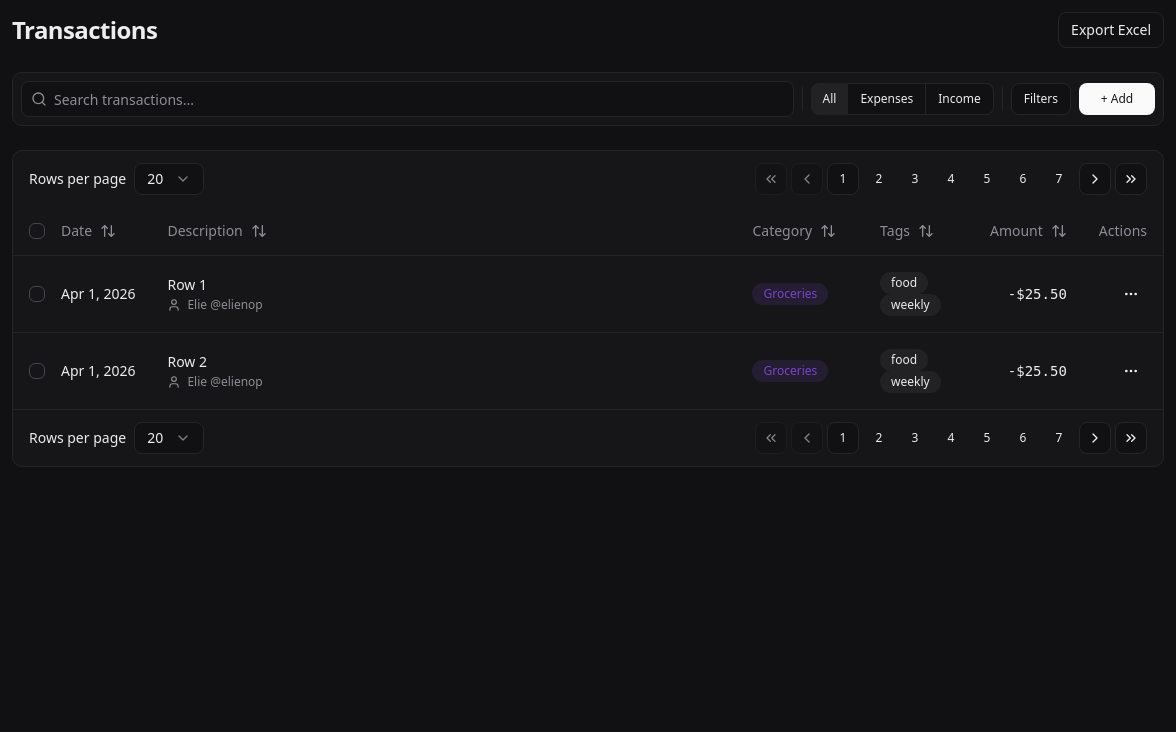
it: Transactions page › selection state machine › clicking "Select all X matching" switches to all-matching scope and locks row checkboxes
# Escalate to all-matching via header checkbox + banner.
Click the checkbox named "select row 1". click: (37, 294)
box: [29,286,45,302]
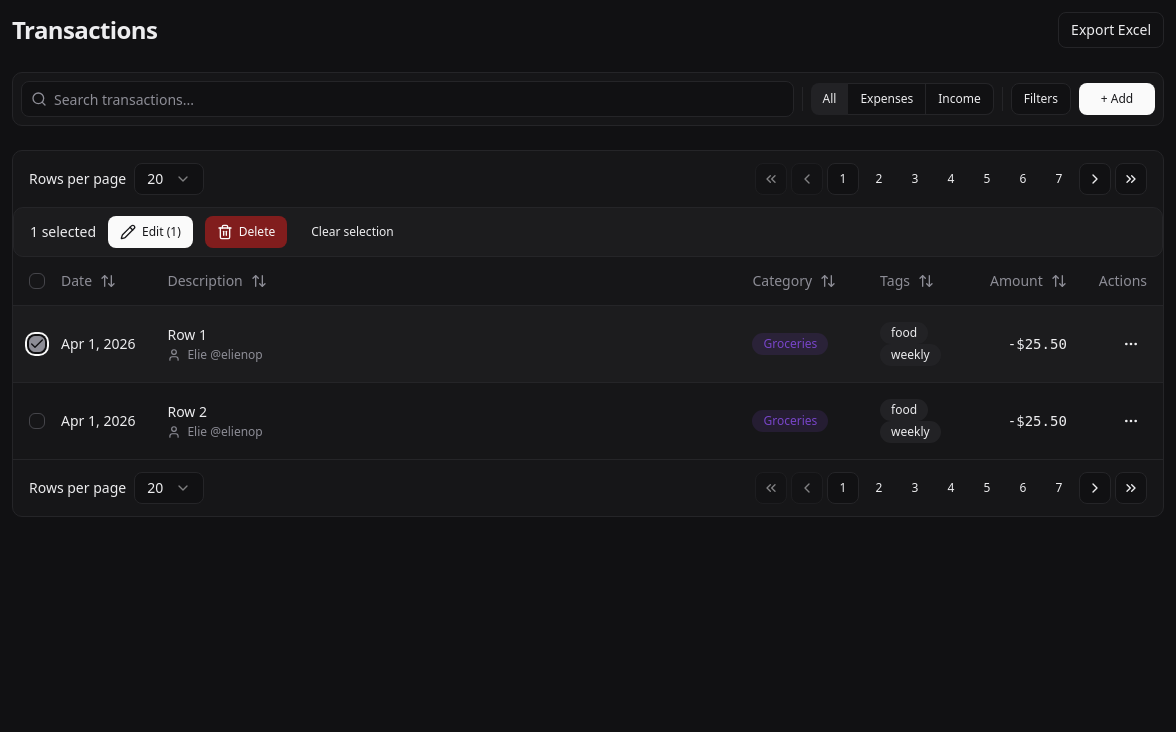
Click the checkbox named "select row 2". click: (37, 420)
box: [29,412,45,428]
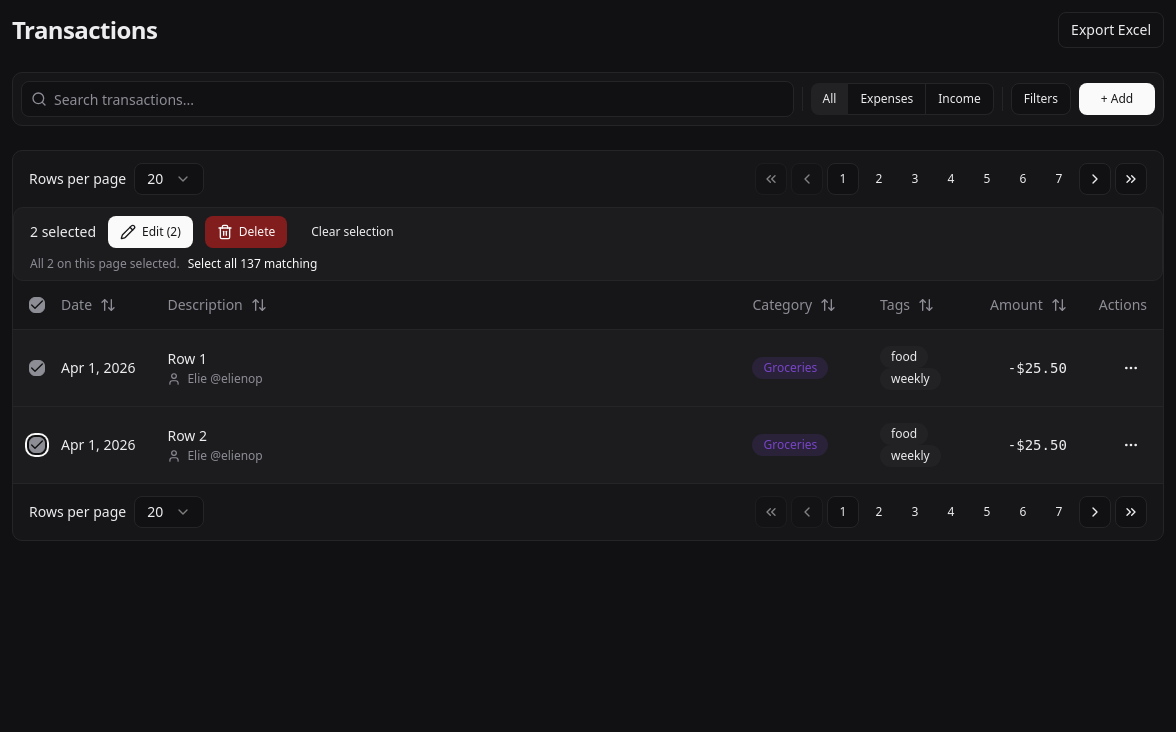
Click the button "Select all 137 matching". click: (252, 264)
box: [188,256,317,272]
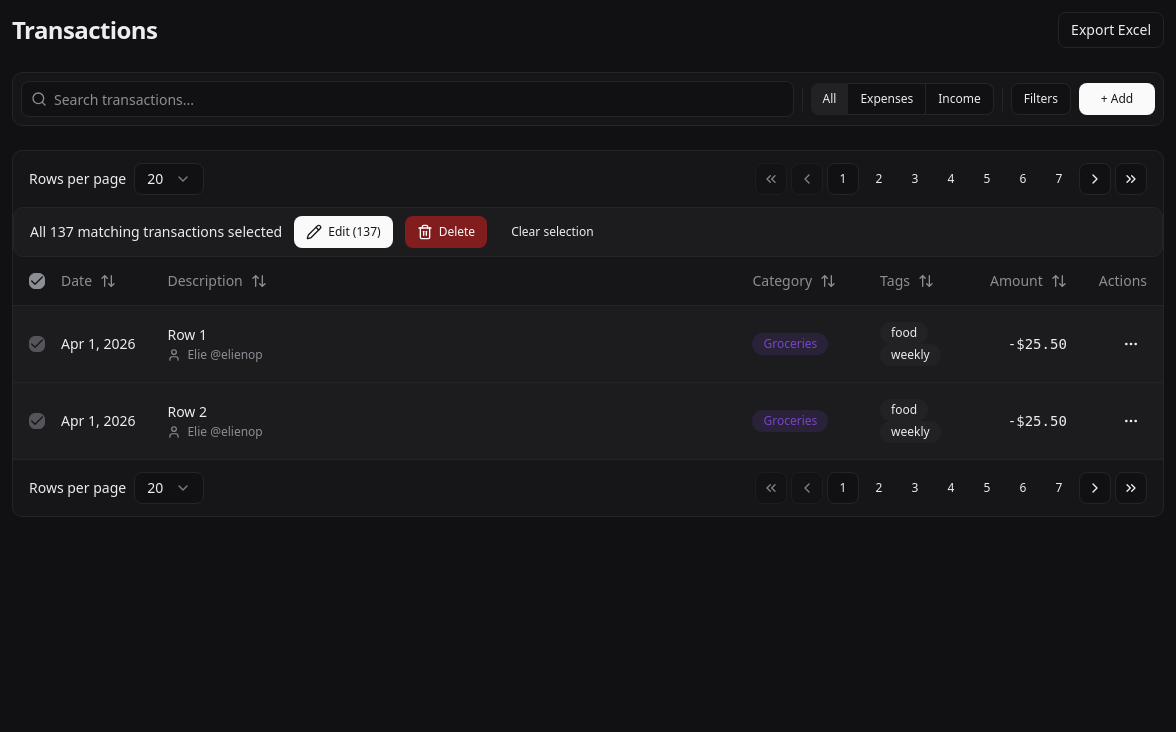
Check: the text "All 137 matching transactions selected" is shown, box [30,222,282,242]
Check: the checkbox named "select row 1" is disabled, box [29,336,45,352]
